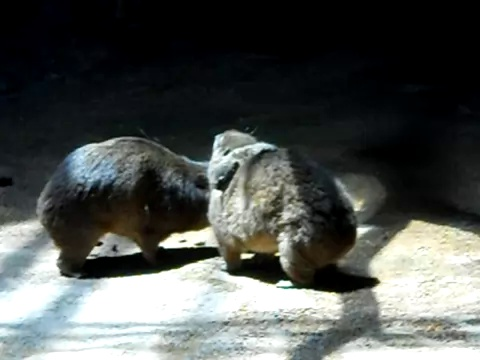Rock Hyrex: (35, 136, 213, 280), (207, 129, 359, 290)
